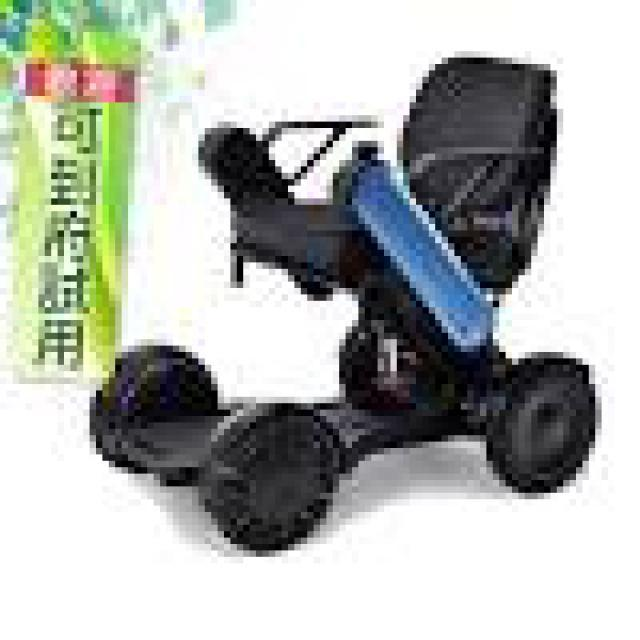wheelchair: (77, 38, 582, 557)
